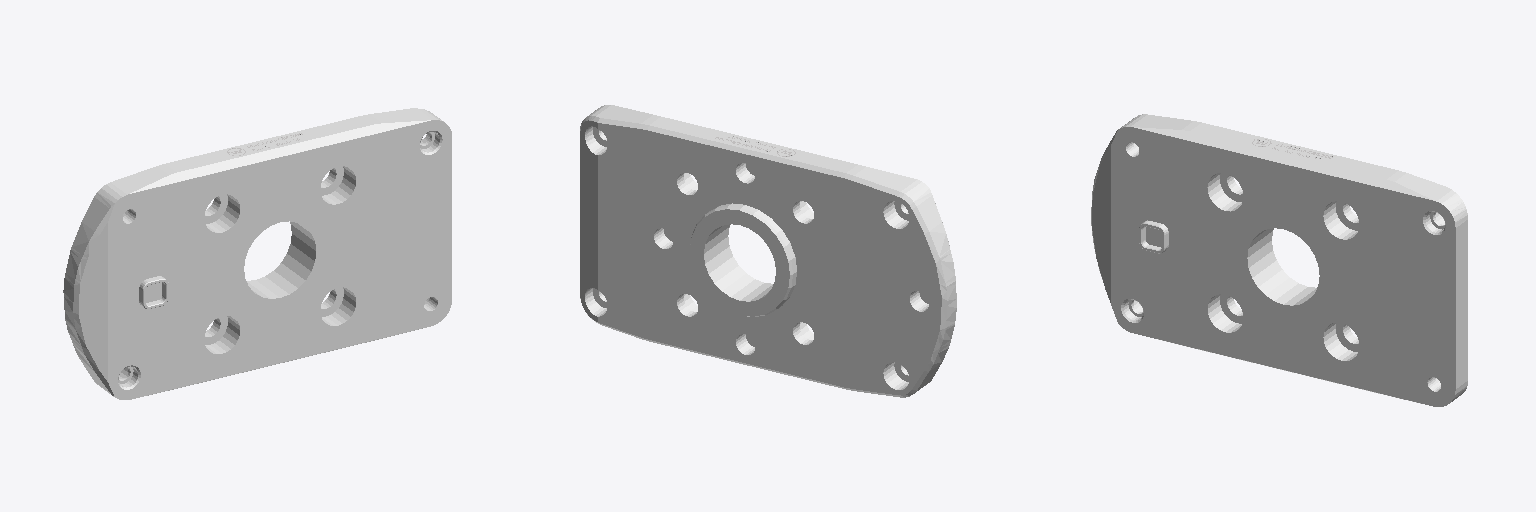
The model's file is gripper_wr_FL_ISO50_CRG200_Grundkorper_CUSTOMER_FL_ISO50_CRG200_Grundkorper_CUSTOMER_FL_ISO50_CRG200_Grundkorper_CUSTOMER_FL_ISO50_CRG200_Grundkorper_CUSTOMER.obj.
3 views of the same model, side by side, from view 1: azimuth 30°, elevation 25°; view 2: azimuth 150°, elevation 25°; view 3: azimuth 330°, elevation 25° (orthographic).
Size of the model in its own units: 0.1135 by 0.063 by 0.015.